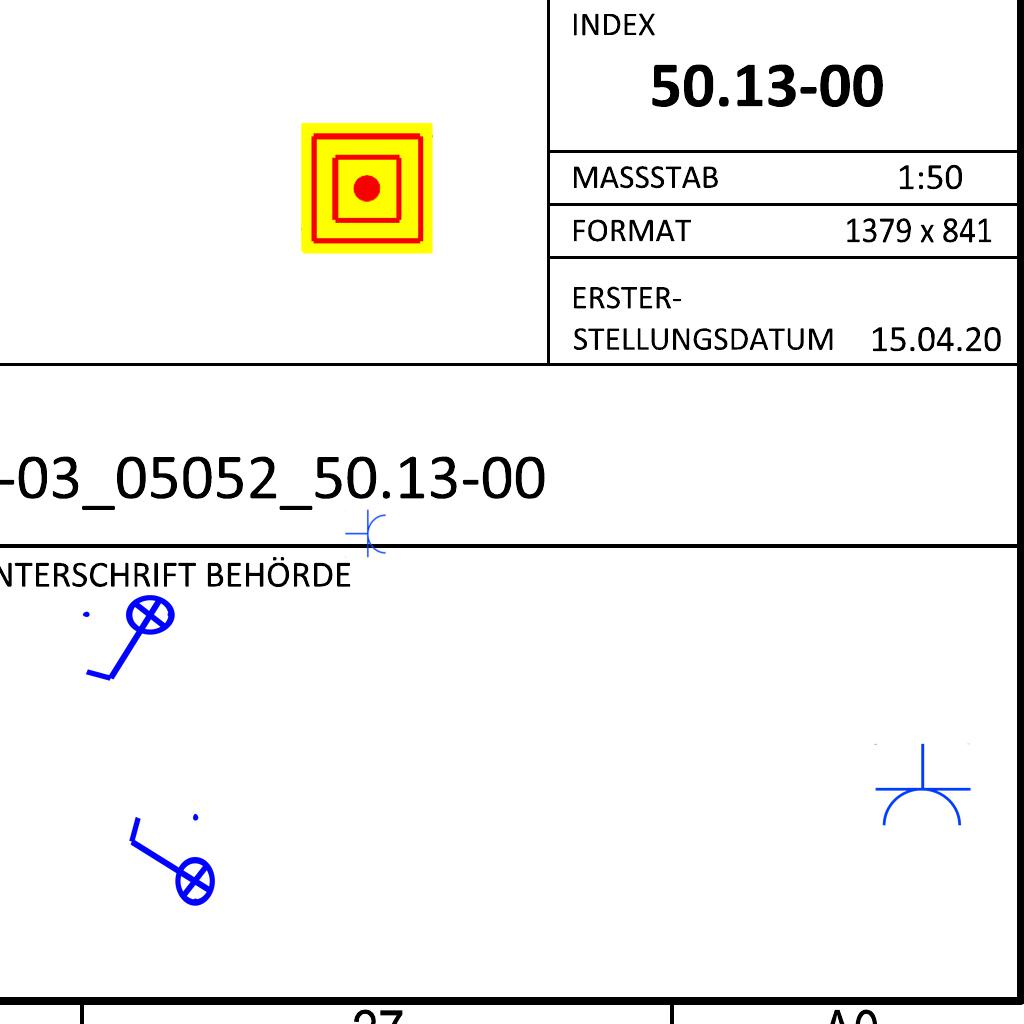Ausschalter_beleuchtet: (77, 593, 189, 689), (121, 808, 217, 920)
NAM-Nichtautomatischer_Melder: (301, 122, 433, 254)
Schukosteckdose_einfach: (872, 743, 972, 830), (345, 509, 388, 559)
